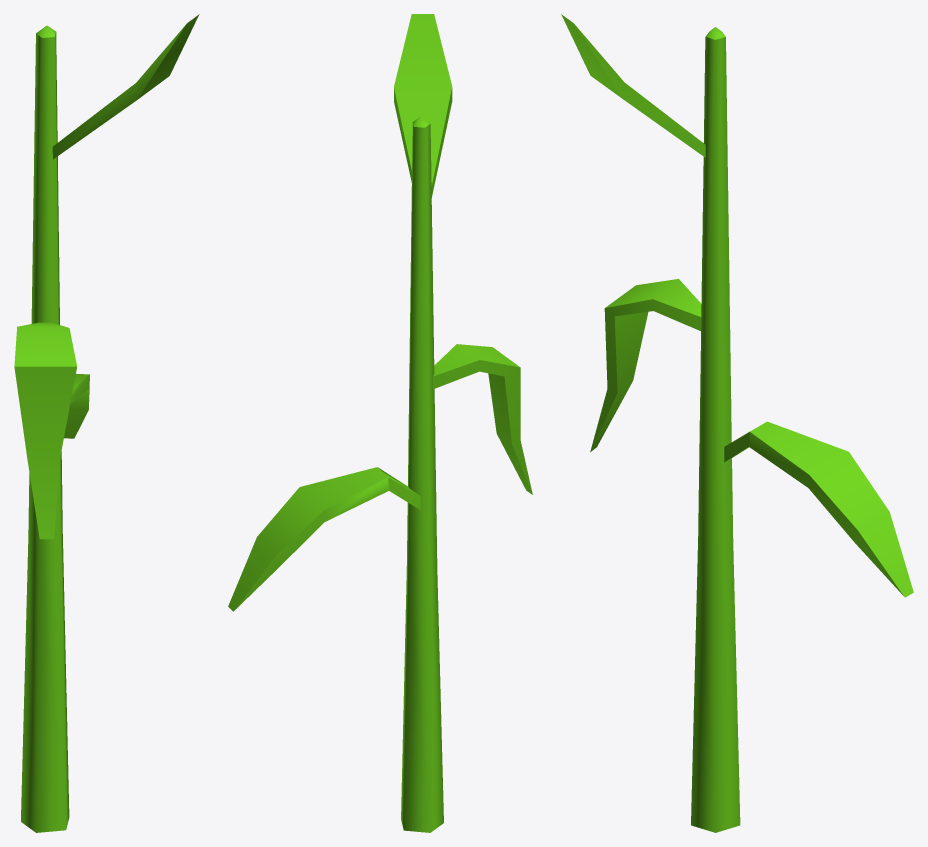
Rendered from SM_Wheat_1_b.FBX.
The picture shows the model from 3 angles, left to right: view 1: azimuth 30°, elevation 25°; view 2: azimuth 150°, elevation 25°; view 3: azimuth 270°, elevation 25°; orthographic projection. The views are drawn at different scales.
Visible parts, largest first — view 1: Wheat 2; view 2: Wheat 2; view 3: Wheat 2.
Part boxes in pixels (bbox=[...]): Wheat 2: bbox=[14, 14, 199, 832]; Wheat 2: bbox=[228, 14, 532, 832]; Wheat 2: bbox=[561, 14, 913, 832].
Bounding box in the file's own units: 0.863 × 3.56 × 1.36.
